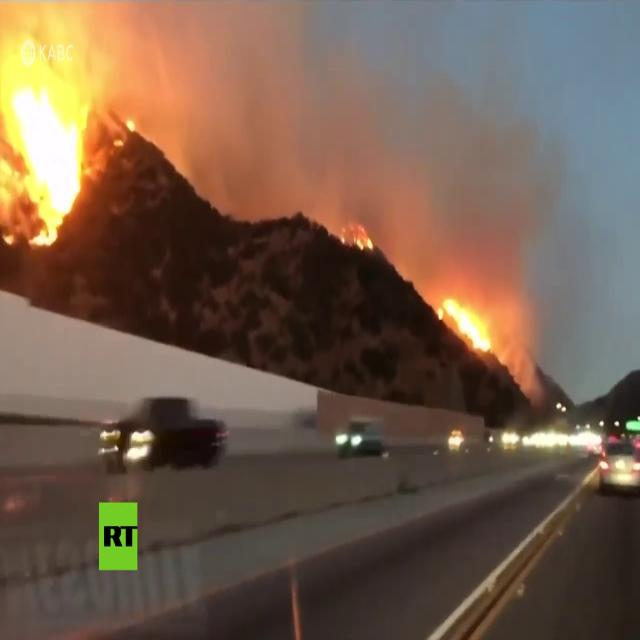fire: (15, 77, 88, 204), (446, 293, 494, 347)
smoke: (114, 26, 323, 196), (344, 119, 524, 259)
